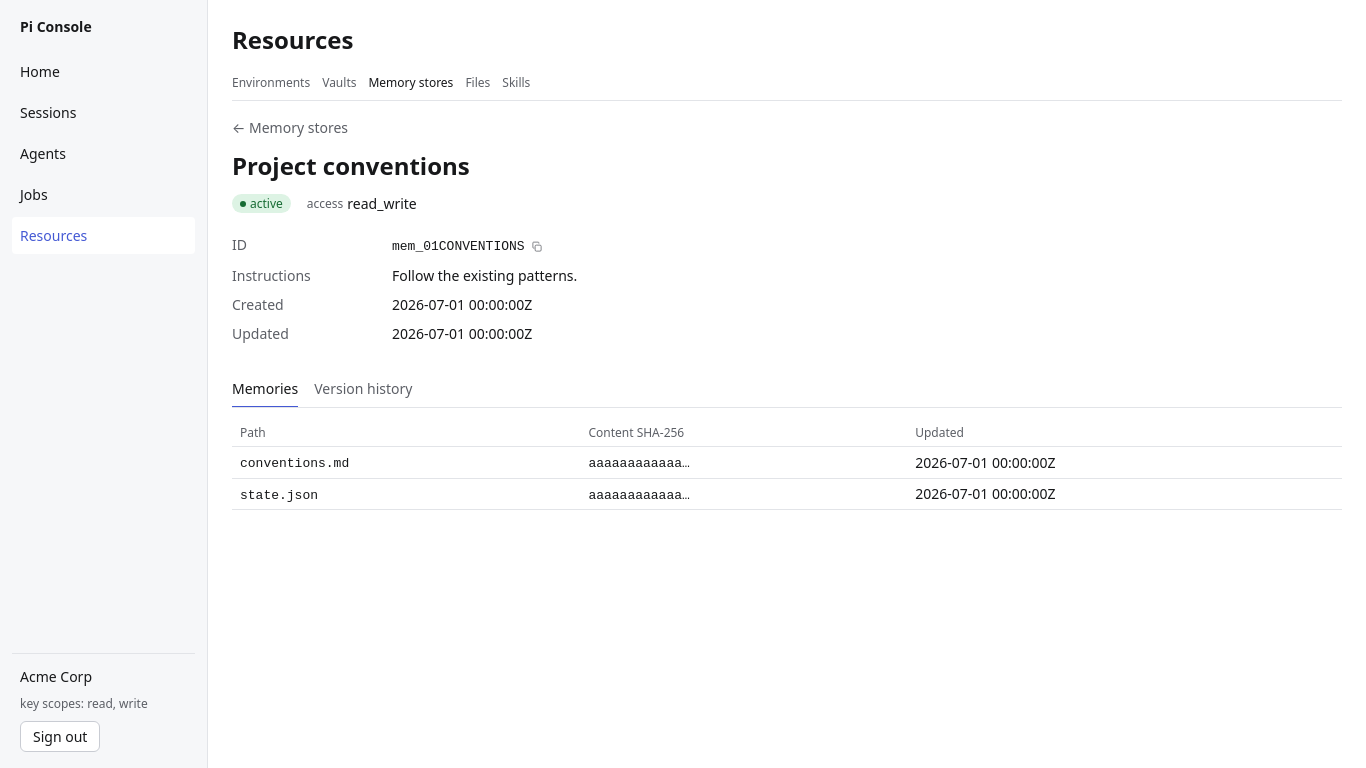
Test case: memory version restore (§9.5, WP-C4.0b) › write scope: Restore enabled on intact versions; disabled on redacted ones WITH the reason
Expected: the table named "Memories" is shown, [232,420,1342,510]
What coordinates should you click on to do the following:
click the tab "Version history"
I would click on:
 (363, 390)
Its box is [314,372,412,408].
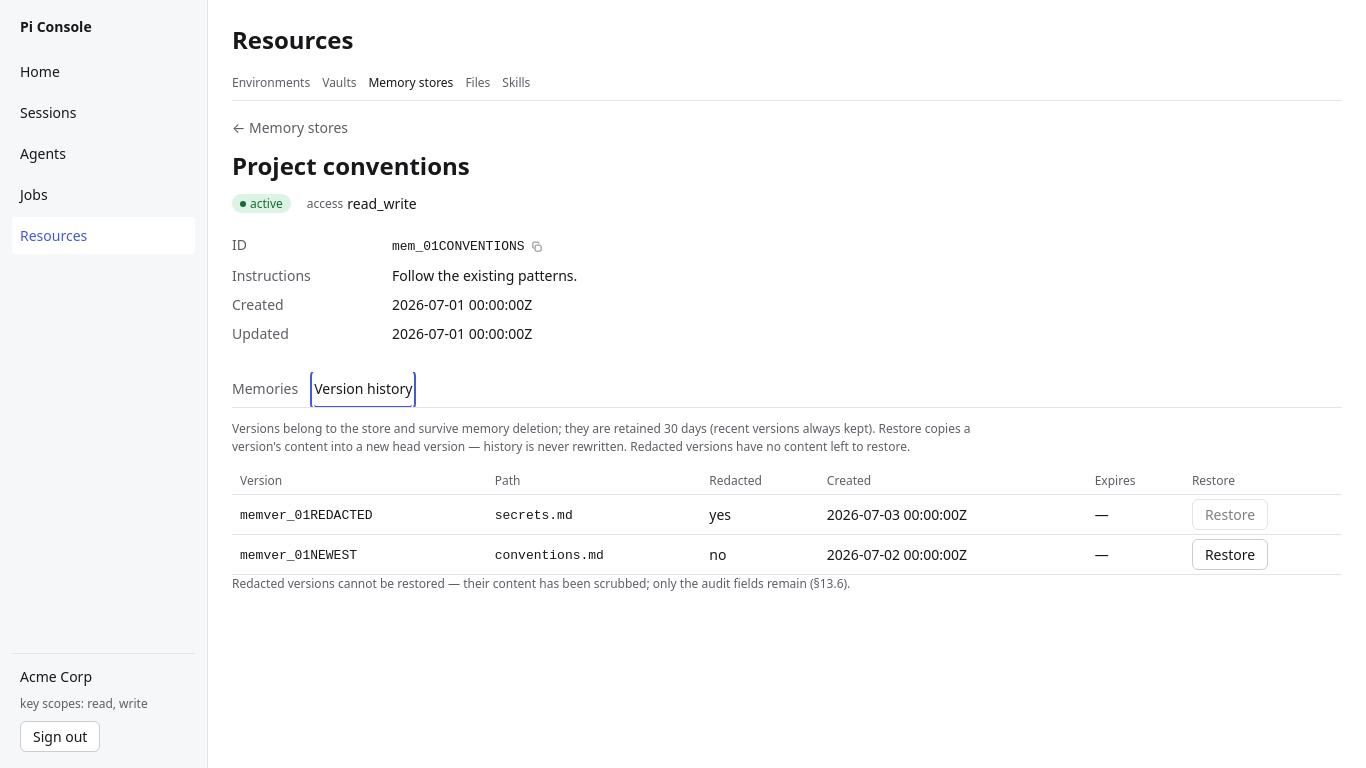
Now the button "Restore" in the row of "memver_01REDACTED" is disabled, box [1192,499,1268,530]
Now the text "Redacted versions cannot be restored" is shown, box [232,575,850,592]
Now the button "Restore" in the row of "memver_01NEWEST" is enabled, box [1192,539,1268,570]
